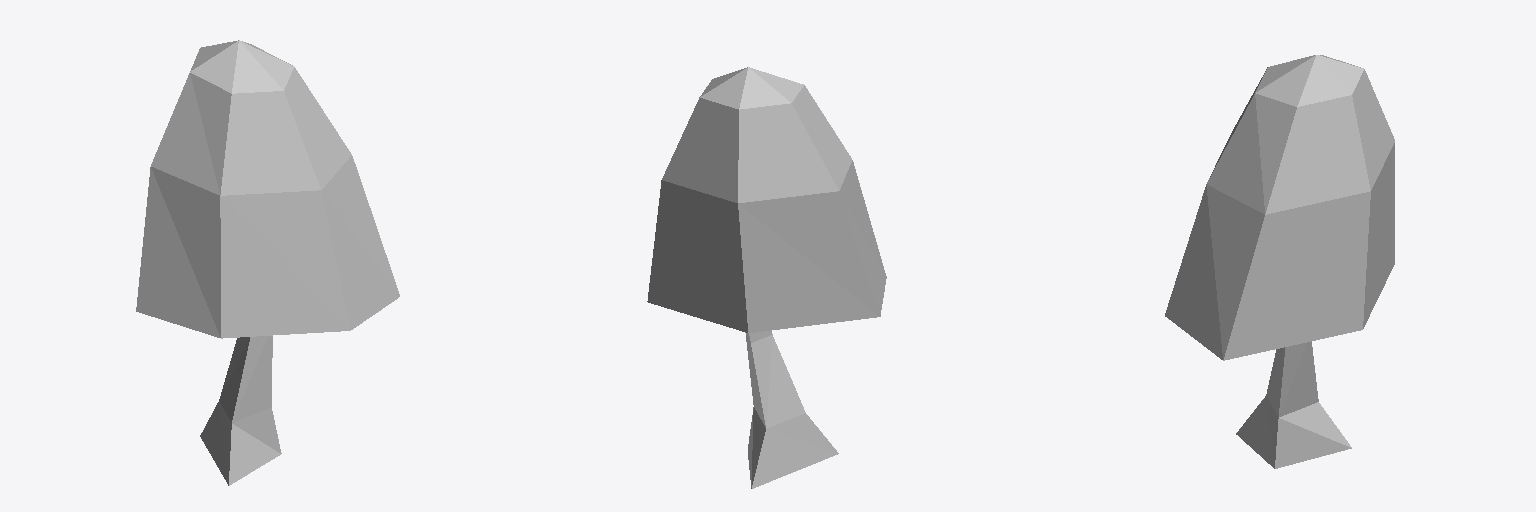
File: mush4.obj
The picture shows the model from 3 angles: view 1: azimuth 30°, elevation 25°; view 2: azimuth 150°, elevation 25°; view 3: azimuth 270°, elevation 25°; orthographic projection.
Parts seen in each view (by area): view 1: Cylinder.003; view 2: Cylinder.003; view 3: Cylinder.003.
Part boxes in pixels (x1,y1,x2,y2): Cylinder.003: (136, 40, 399, 485); Cylinder.003: (647, 67, 886, 488); Cylinder.003: (1165, 55, 1394, 468).
Bounding box in the file's own units: 0.8333 × 1.38 × 0.717.